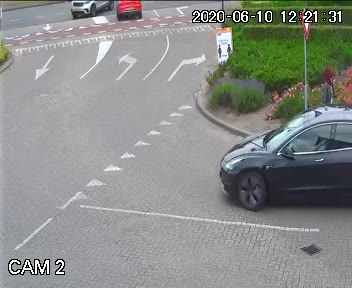car: (213, 89, 352, 211), (68, 0, 112, 18), (119, 0, 140, 24)
